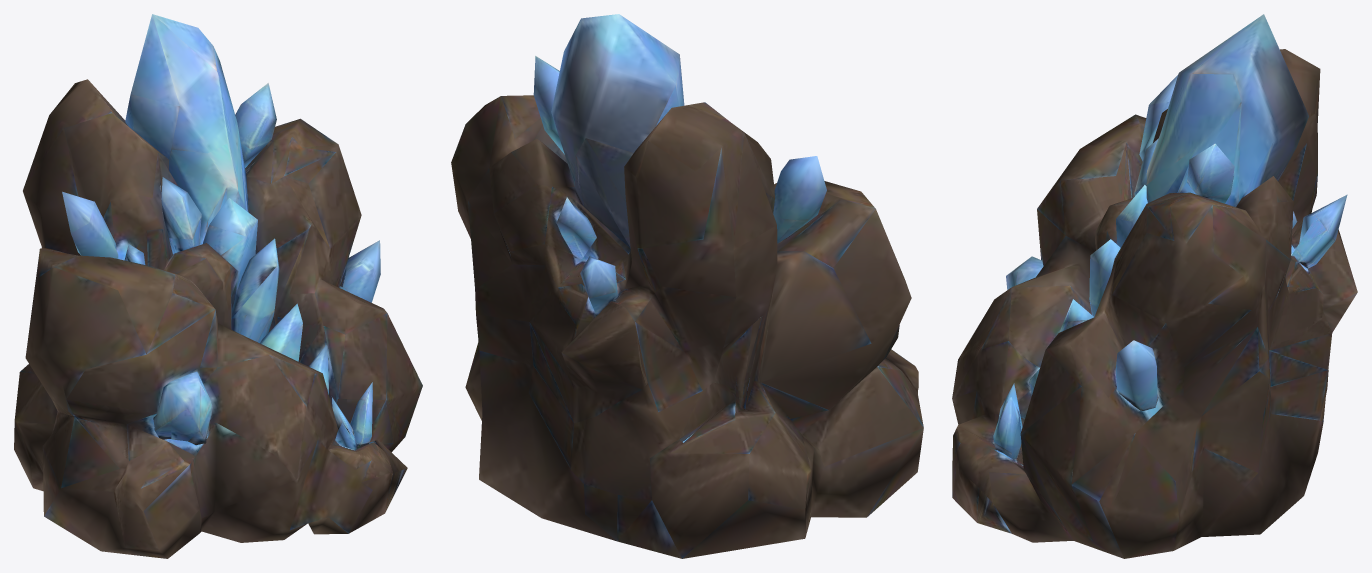
The model's file is filon_cristal.glb.
3 renders of one model, left to right at view 1: azimuth 30°, elevation 25°; view 2: azimuth 150°, elevation 25°; view 3: azimuth 270°, elevation 25°, orthographic. The views are drawn at different scales.
Size of the model in its own units: 0.8531 by 0.9531 by 0.7661.
Materials: 1 (1 with a texture image).
